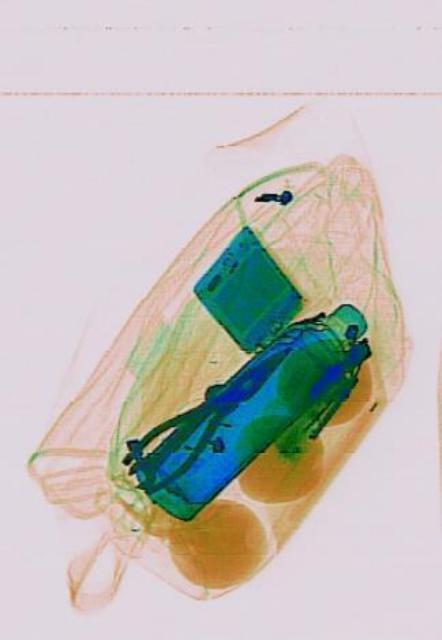Pliers: (115, 319, 303, 505)
Wrench: (123, 386, 220, 494)
